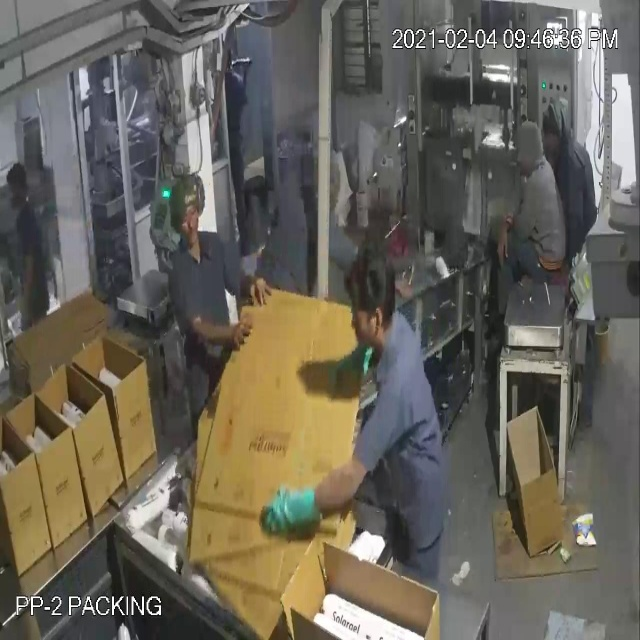Guantes: (254, 448, 352, 547)
Sin_guantes: (183, 298, 261, 372)
